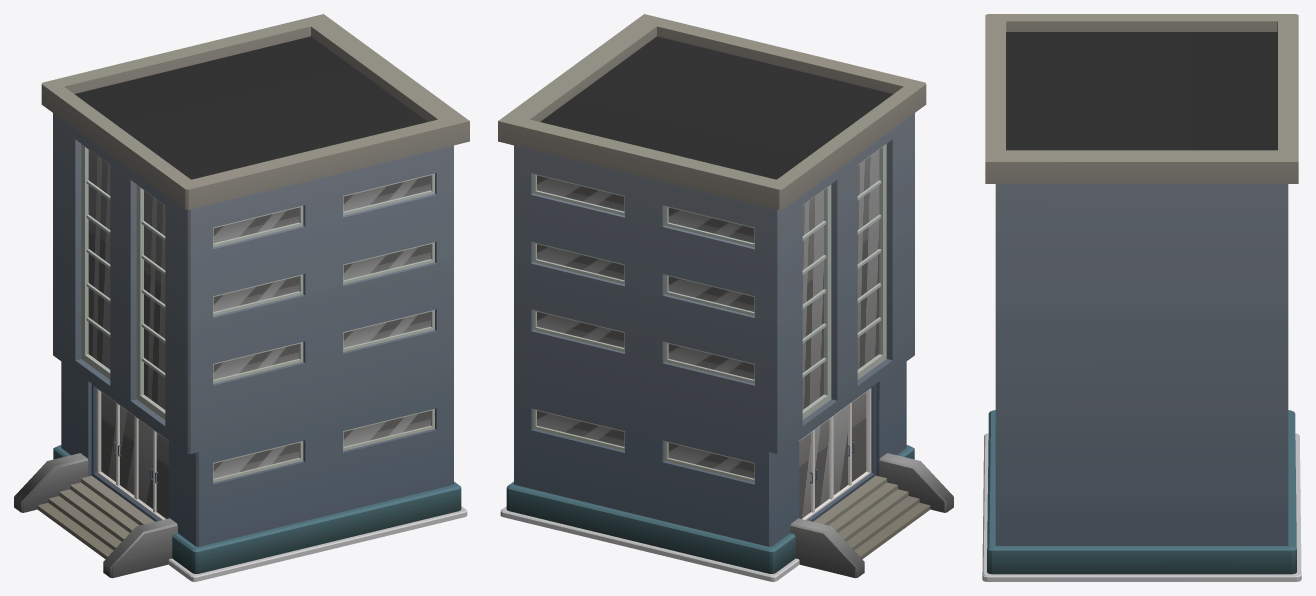
Rendered from Building_26_O.fbx.
3 renders of one model, left to right at view 1: azimuth 30°, elevation 25°; view 2: azimuth 150°, elevation 25°; view 3: azimuth 270°, elevation 25°, orthographic. The views are drawn at different scales.
Visible parts, largest first — view 1: Building_26_O; view 2: Building_26_O; view 3: Building_26_O.
Boxes of the visible parts, box(x1,y1,x2,y2) form: Building_26_O: box(14, 14, 469, 581); Building_26_O: box(498, 14, 953, 581); Building_26_O: box(982, 14, 1301, 581).
Size of the model in its own units: 923 by 1037 by 712.
